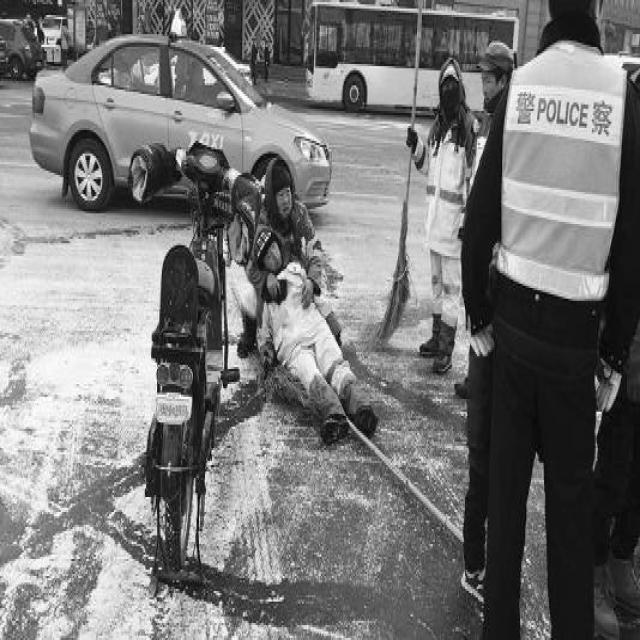10-: (20, 0, 639, 638)
down: (252, 222, 382, 452)
